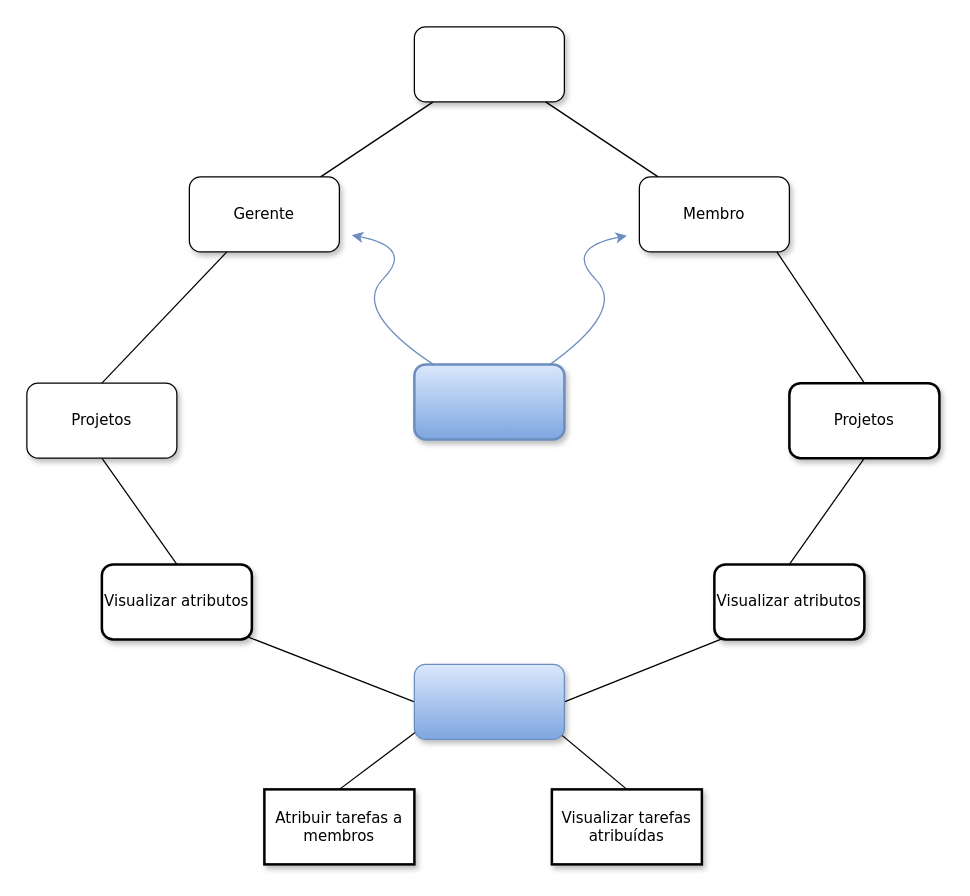
Some shapes in this 970 by 896 pixel diagram are drawn without their labels. Here are the shapes that lost their labels. From the top down, the centre of each, then its label:
point 490,66: Login
point 490,403: Gerenciamento de projetos
point 490,703: Tarefas
